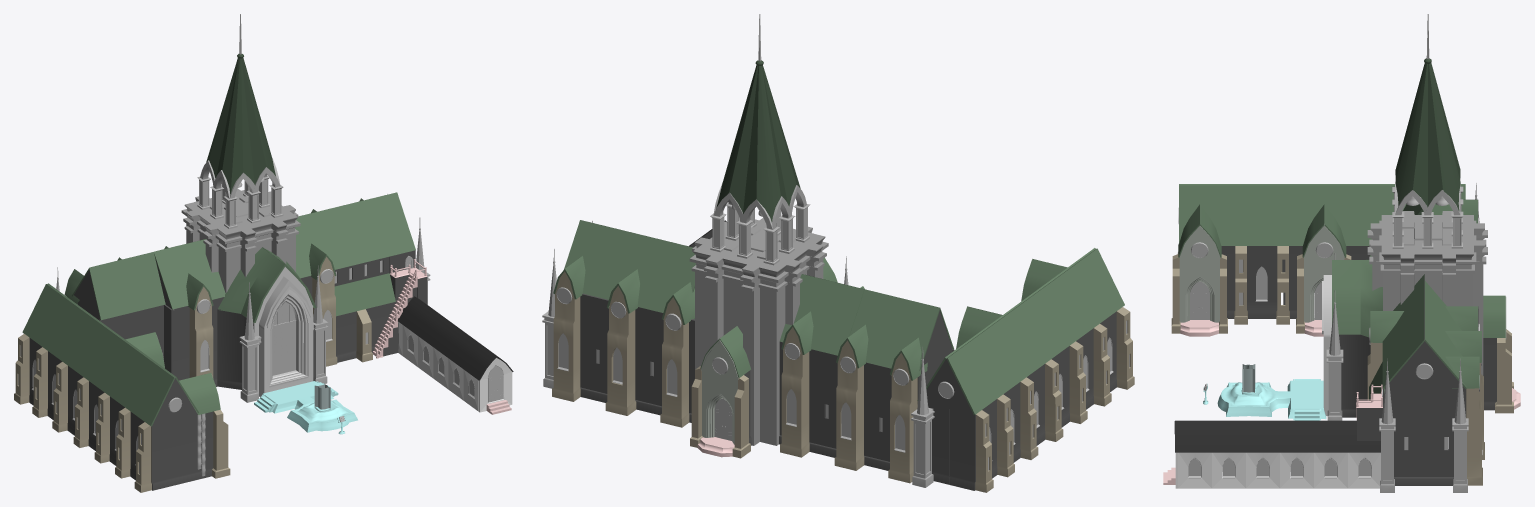
File: Church_Whole_Lowpoly_sketchfab.fbx
The picture shows the model from 3 angles, left to right: view 1: azimuth 30°, elevation 25°; view 2: azimuth 150°, elevation 25°; view 3: azimuth 270°, elevation 25°; orthographic projection. The views are drawn at different scales.
Visible parts, largest first — view 1: Church_LeftSide_Large_Roof_012, Church_Main_TowerCenter, Church_Main_Roof, Church_CENTER_Main_Wall_01, Church_Center_Roof_Longer_Bend_01, Church_Center_Roof_Short_010, Church_Center_Roof_Short_09, Church_Center_Roof_Short_01, Church_CENTER_Alter_Ground_01, Church_CENTER_Main_Wall_Roof_02, Church_CENTER_Side_Wall_01, Church_Center_Middle_Roof_01 (+37 smaller); view 2: Church_Main_TowerCenter, Church_LeftSide_Large_Roof_012, Church_Main_Roof, Church_Center_Roof_Longer_01, Church_Center_Roof_Short_06, Church_Center_Roof_Short_05, Church_Center_Roof_Short_07, Church_Center_Tall_Wall_wSWindow_06, Church_Center_Tall_Wall_wSWindow_02, Church_Center_Wall_Out_06, Church_Center_Tall_Wall_wSWindow_05, Church_Center_Wall_Out_04 (+33 smaller); view 3: Church_LeftSide_Large_Roof_012.001, Church_Main_TowerCenter, Church_Main_Roof, Church_Center_Tall_Wall_wSWindow_08, Church_CENTER_Main_Wall_Roof_01, Church_CENTER_Alter_Ground_01, Church_Center_Tall_Wall_wSWindow_07, Church_LeftSide_Pointy_FrontWall_01, Church_CENTER_Side_Wall_03, Church_LeftSide_Wall_wWindow_01, Church_LeftSide_Pointy_FrontWall_08, Church_Center_Ending_Roof_01 (+49 smaller).
Part boxes in pixels (<box>): Church_LeftSide_Large_Roof_012: <box>22,284,175,426</box>; Church_Main_TowerCenter: <box>181,188,300,292</box>; Church_Main_Roof: <box>206,14,275,194</box>; Church_CENTER_Main_Wall_01: <box>254,267,313,396</box>; Church_Center_Roof_Longer_Bend_01: <box>89,252,165,320</box>; Church_Center_Roof_Short_010: <box>343,192,415,263</box>; Church_Center_Roof_Short_09: <box>295,205,361,276</box>; Church_Center_Roof_Short_01: <box>154,239,225,309</box>; Church_CENTER_Alter_Ground_01: <box>257,381,357,432</box>; Church_CENTER_Main_Wall_Roof_02: <box>218,247,285,323</box>; Church_CENTER_Side_Wall_01: <box>217,309,254,389</box>; Church_Center_Middle_Roof_01: <box>334,273,395,316</box>; Church_Main_TowerCenter: <box>689,217,828,445</box>; Church_LeftSide_Large_Roof_012: <box>946,248,1124,414</box>; Church_Main_Roof: <box>716,14,800,222</box>; Church_Center_Roof_Longer_01: <box>849,289,939,370</box>; Church_Center_Roof_Short_06: <box>564,220,642,299</box>; Church_Center_Roof_Short_05: <box>779,274,864,355</box>; Church_Center_Roof_Short_07: <box>630,235,695,312</box>; Church_Center_Tall_Wall_wSWindow_06: <box>580,293,608,402</box>; Church_Center_Tall_Wall_wSWindow_02: <box>809,349,837,457</box>; Church_Center_Wall_Out_06: <box>605,286,636,415</box>; Church_Center_Tall_Wall_wSWindow_05: <box>635,307,663,415</box>; Church_Center_Wall_Out_04: <box>780,327,809,457</box>; Church_LeftSide_Large_Roof_012.001: <box>1179,185,1465,245</box>; Church_Main_TowerCenter: <box>1367,211,1487,375</box>; Church_Main_Roof: <box>1395,14,1460,211</box>; Church_Center_Tall_Wall_wSWindow_08: <box>1390,388,1426,485</box>; Church_CENTER_Main_Wall_Roof_01: <box>1332,260,1382,337</box>; Church_CENTER_Alter_Ground_01: <box>1217,379,1326,420</box>; Church_Center_Tall_Wall_wSWindow_07: <box>1426,388,1466,485</box>; Church_LeftSide_Pointy_FrontWall_01: <box>1179,226,1220,322</box>; Church_CENTER_Side_Wall_03: <box>1339,334,1370,417</box>; Church_LeftSide_Wall_wWindow_01: <box>1243,246,1277,318</box>; Church_LeftSide_Pointy_FrontWall_08: <box>1304,224,1344,322</box>; Church_Center_Ending_Roof_01: <box>1389,340,1464,388</box>.
Bounding box in the file's own units: 7393 × 6488 × 5410.
